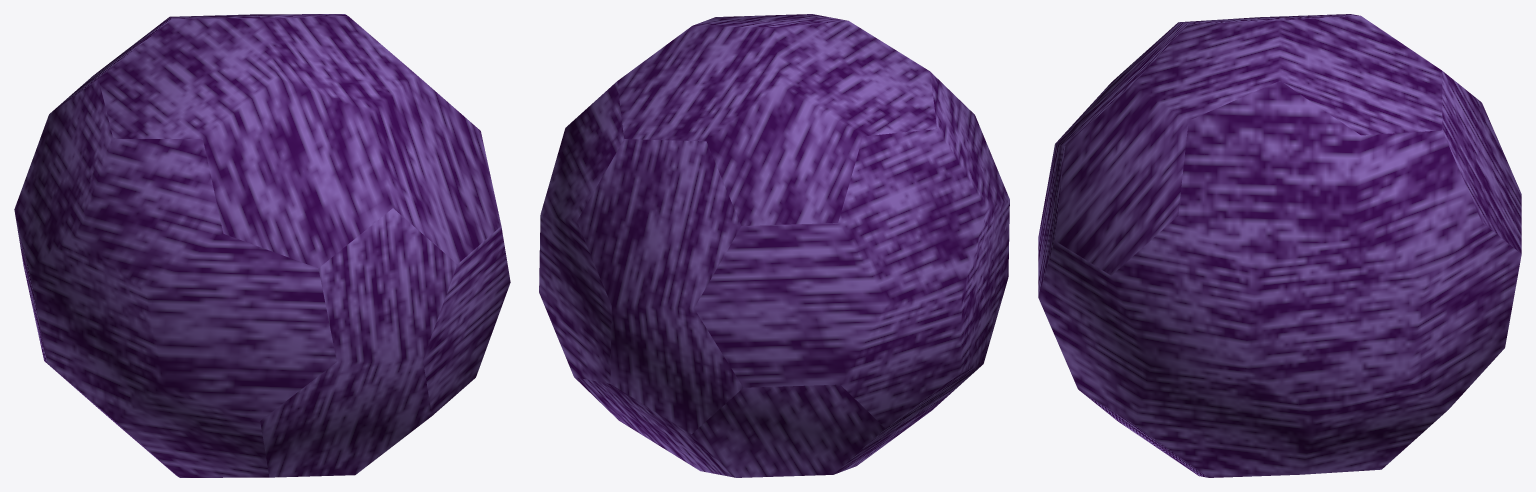
Rendered from soul.fbx.
3 views of the same model, side by side, from view 1: azimuth 30°, elevation 25°; view 2: azimuth 150°, elevation 25°; view 3: azimuth 270°, elevation 25° (orthographic). The views are drawn at different scales.
Visible parts, largest first — view 1: pSolid1; view 2: pSolid1; view 3: pSolid1.
Boxes of the visible parts, x1=… form: pSolid1: x1=14, y1=14, x2=510, y2=477; pSolid1: x1=539, y1=14, x2=1009, y2=477; pSolid1: x1=1038, y1=14, x2=1521, y2=477.
Bounding box in the file's own units: 28.22 × 28.6 × 27.84.
